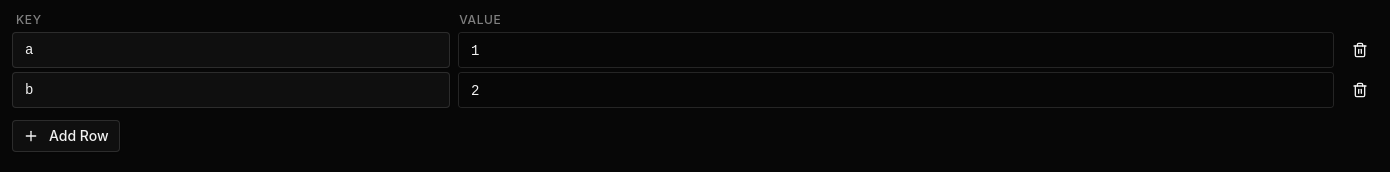
Test: SecretDataGrid › remove button deletes a row
expect the number of fields with placeholder "key" is 2: met, box [12,32,450,68]; [12,72,450,108]
Click the 1st button named "remove row": (1360, 50) [1342,32,1378,68]
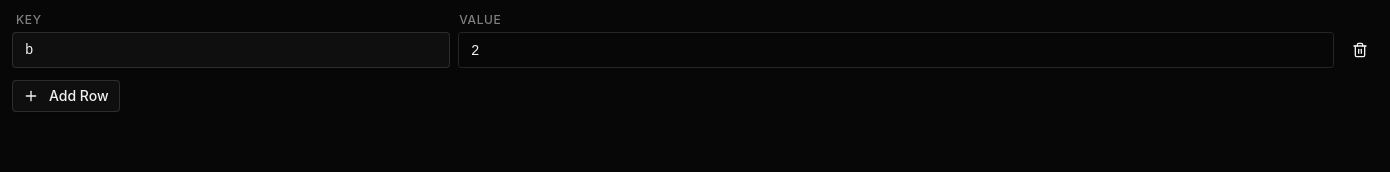
expect the number of fields with placeholder "key" is 1: met, box [12,32,450,68]
